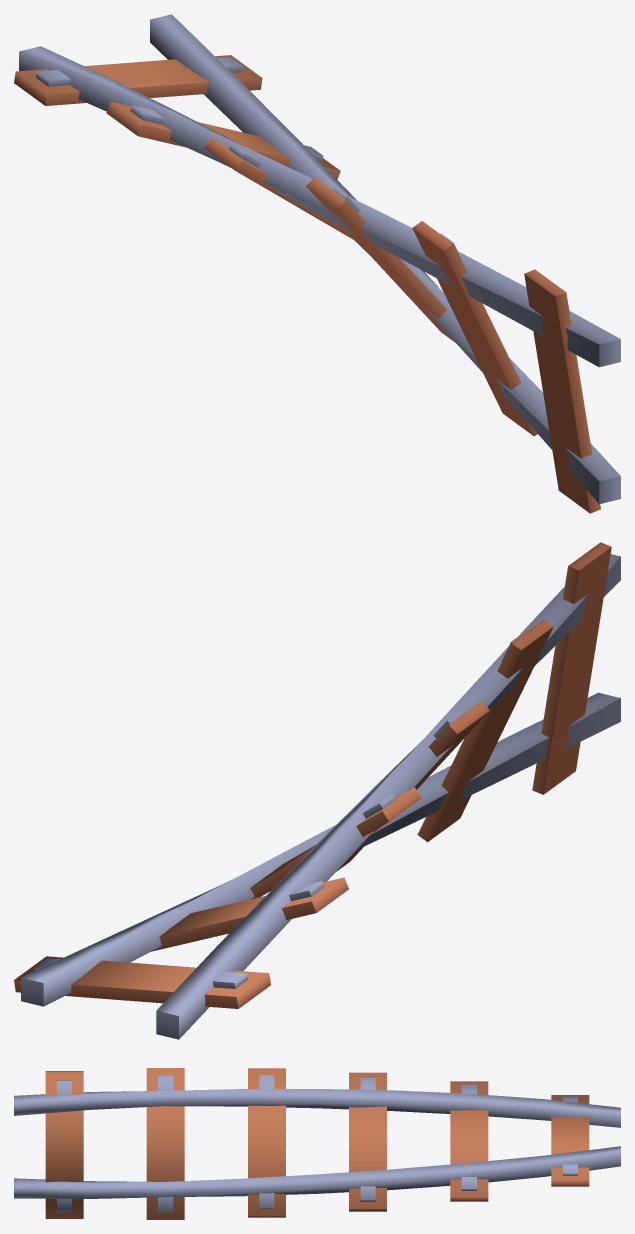
Rendered from railroad-straight-skew-left-side.glb.
The picture shows the model from 3 angles, top to bottom: view 1: azimuth 30°, elevation 25°; view 2: azimuth 150°, elevation 25°; view 3: azimuth 270°, elevation 25°; orthographic projection. The views are drawn at different scales.
Parts seen in each view (by area): view 1: railroad-straight-skew-left-side; view 2: railroad-straight-skew-left-side; view 3: railroad-straight-skew-left-side.
Part boxes in pixels (x1,y1,x2,y2): railroad-straight-skew-left-side: [14, 14, 620, 513]; railroad-straight-skew-left-side: [14, 542, 620, 1039]; railroad-straight-skew-left-side: [14, 1068, 620, 1219].
Size of the model in its own units: 0.9953 by 0.9953 by 4.
